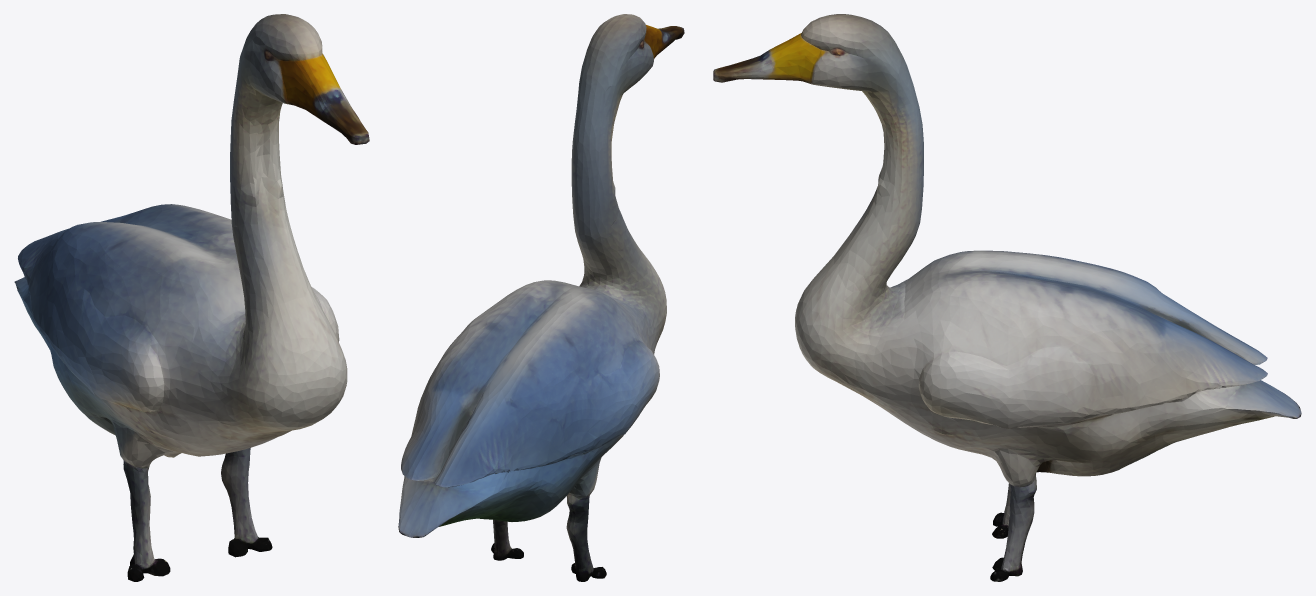
The model's file is klikun.glb.
3 views of the same model, side by side, from view 1: azimuth 30°, elevation 25°; view 2: azimuth 150°, elevation 25°; view 3: azimuth 270°, elevation 25° (orthographic). The views are drawn at different scales.
Size of the model in its own units: 37.97 by 100 by 99.58.
Materials: 1 (1 with a texture image).
